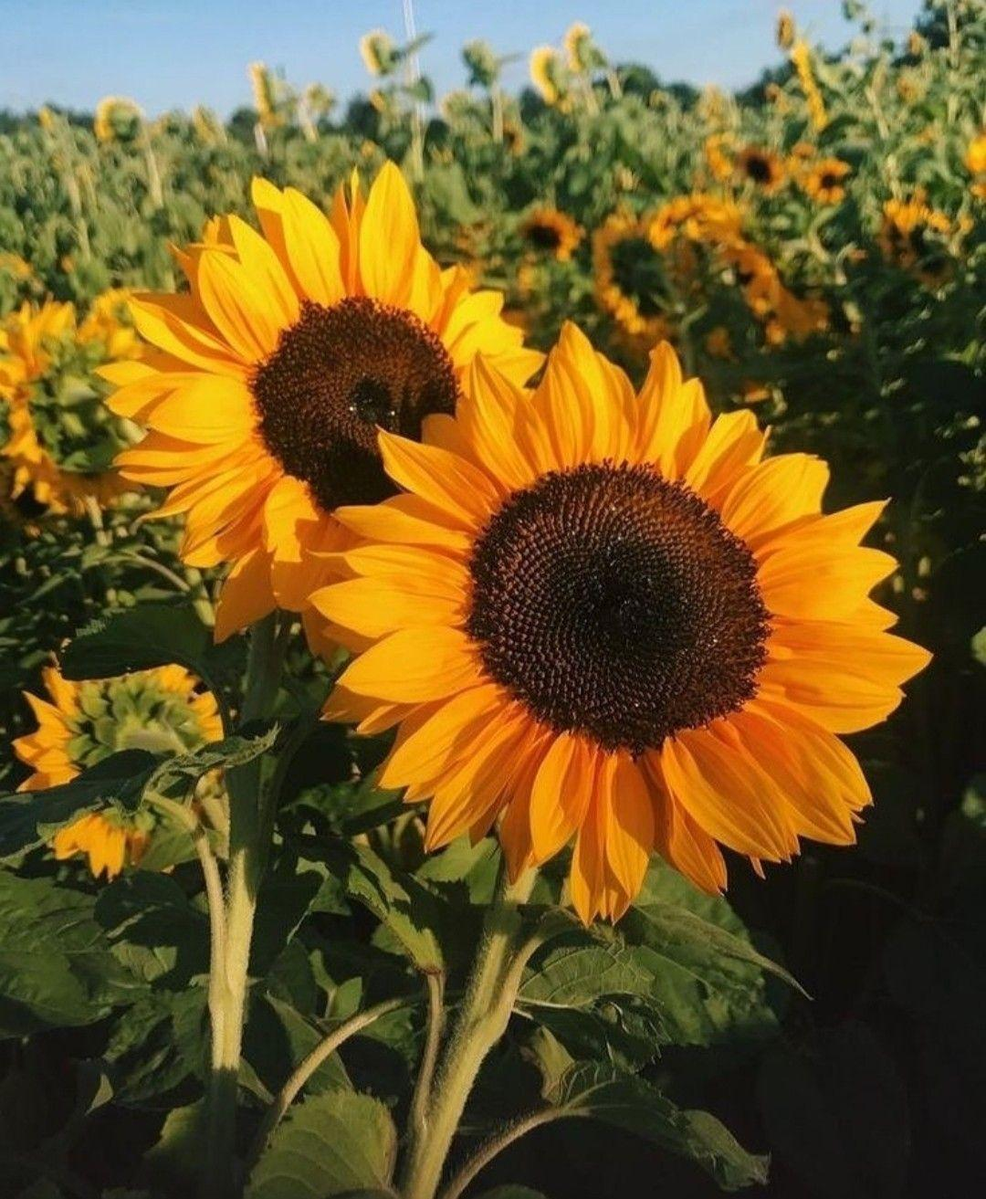sunflower: (303, 318, 933, 928), (91, 155, 545, 649)
